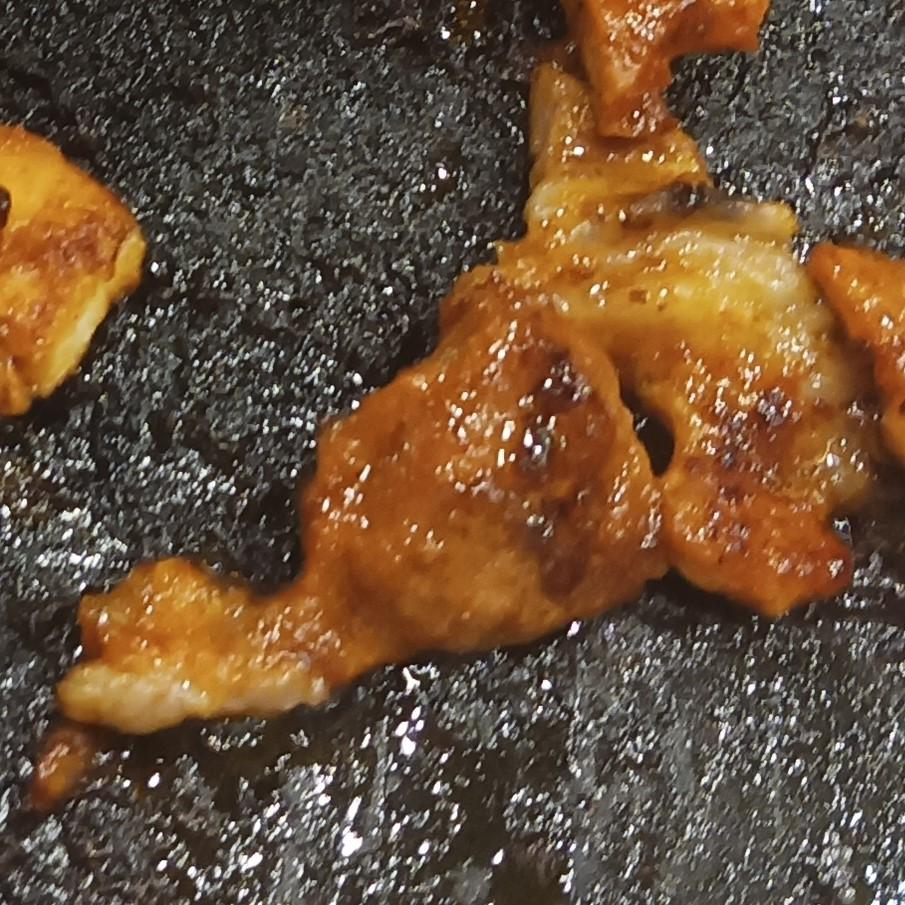Well-Cooked: (30, 0, 904, 818), (0, 123, 148, 422)
